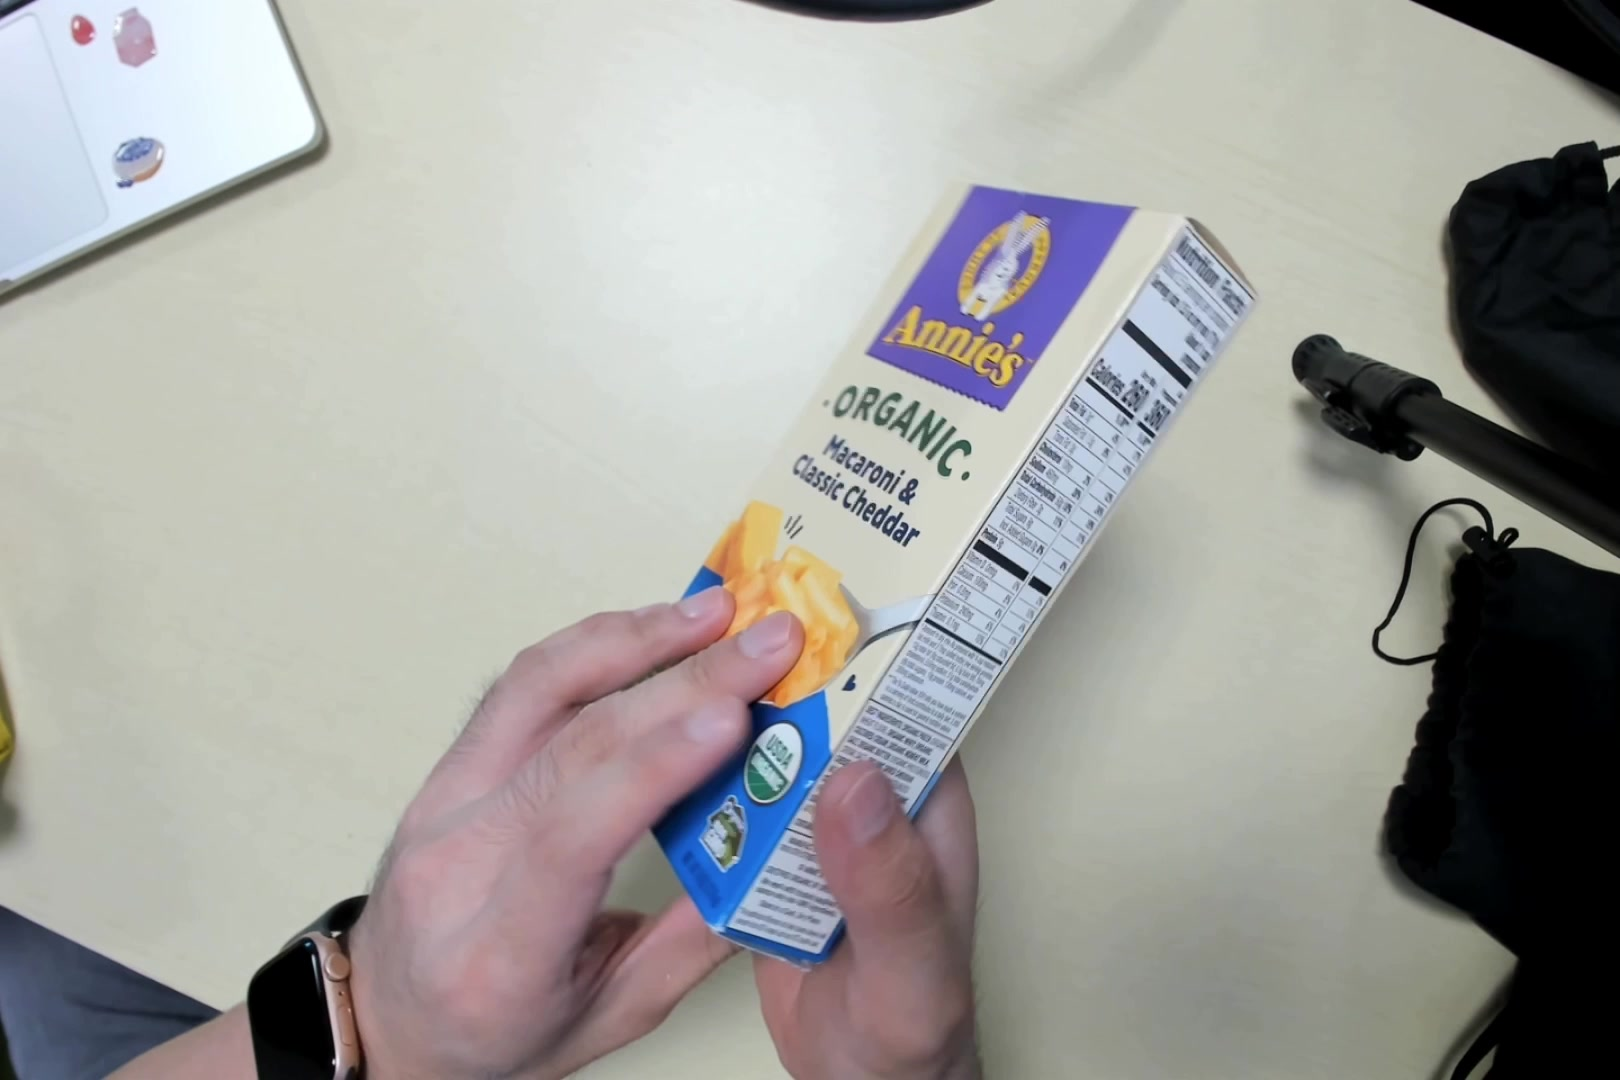InstantMeals_200-299g_NonHalal_NonHealthy: (635, 178, 1262, 974)
